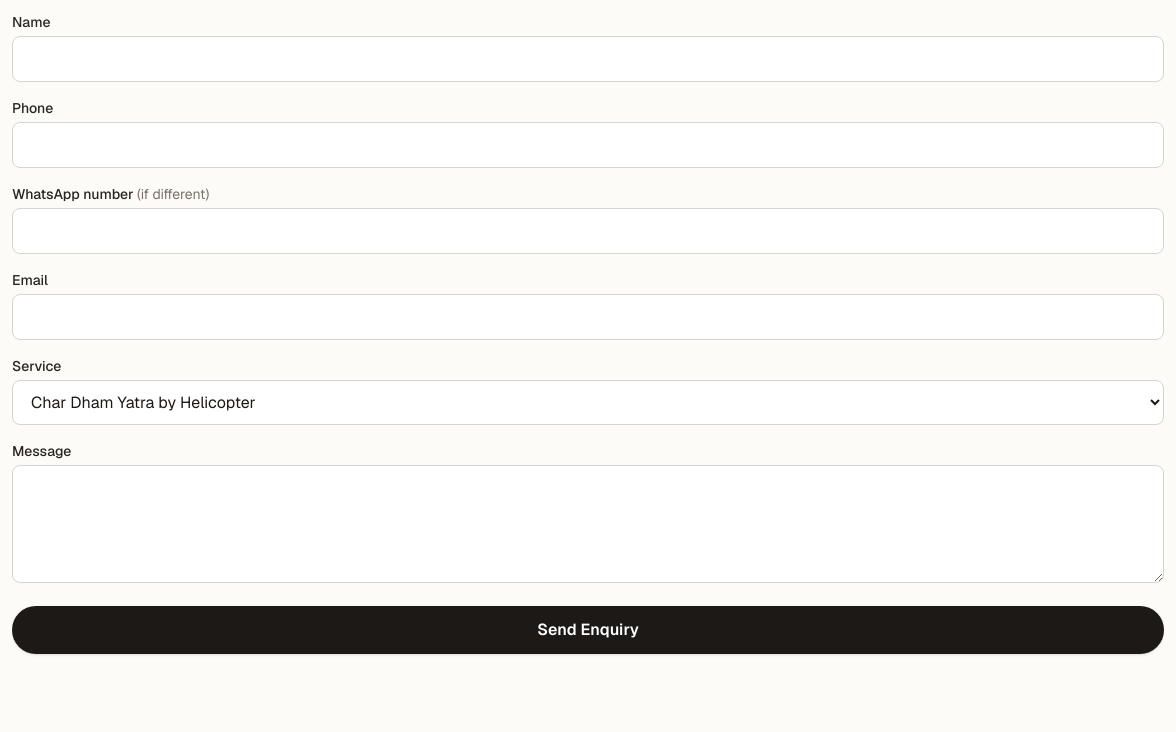
Scenario: GeneralEnquiryForm › shows the server error message on failure
This screenshot has width=1176, height=732.
Type "Meera Nair" into the field labelled "Name" at (588,59), box [12,36,1164,82]
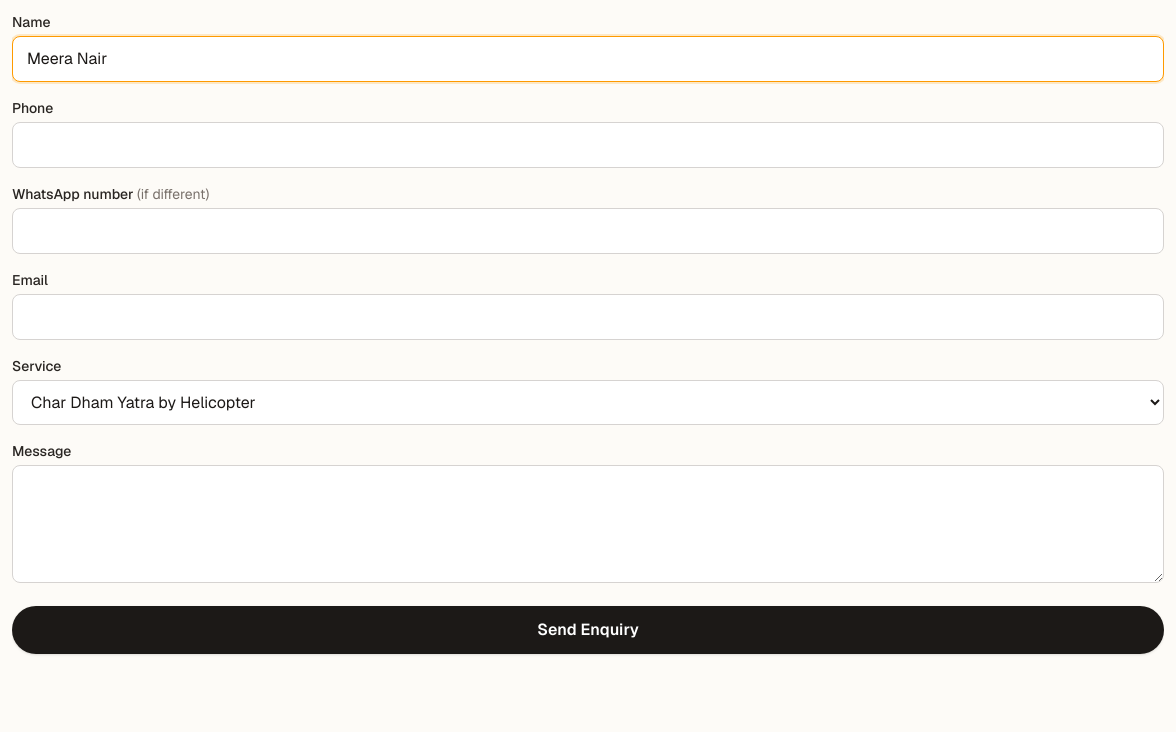
Type "+91 98765 43210" into the field labelled "Phone" at (588,145), box [12,122,1164,168]
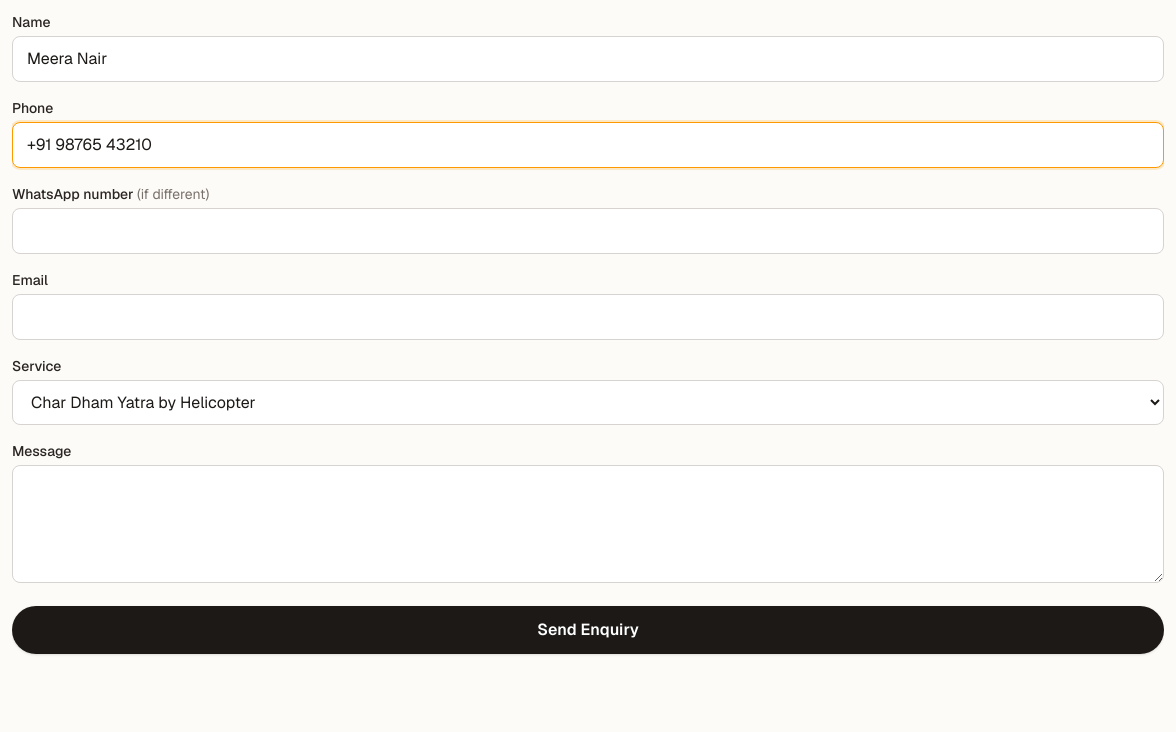
Type "meera@example.com" into the field labelled "Email" at (588,317), box [12,294,1164,340]
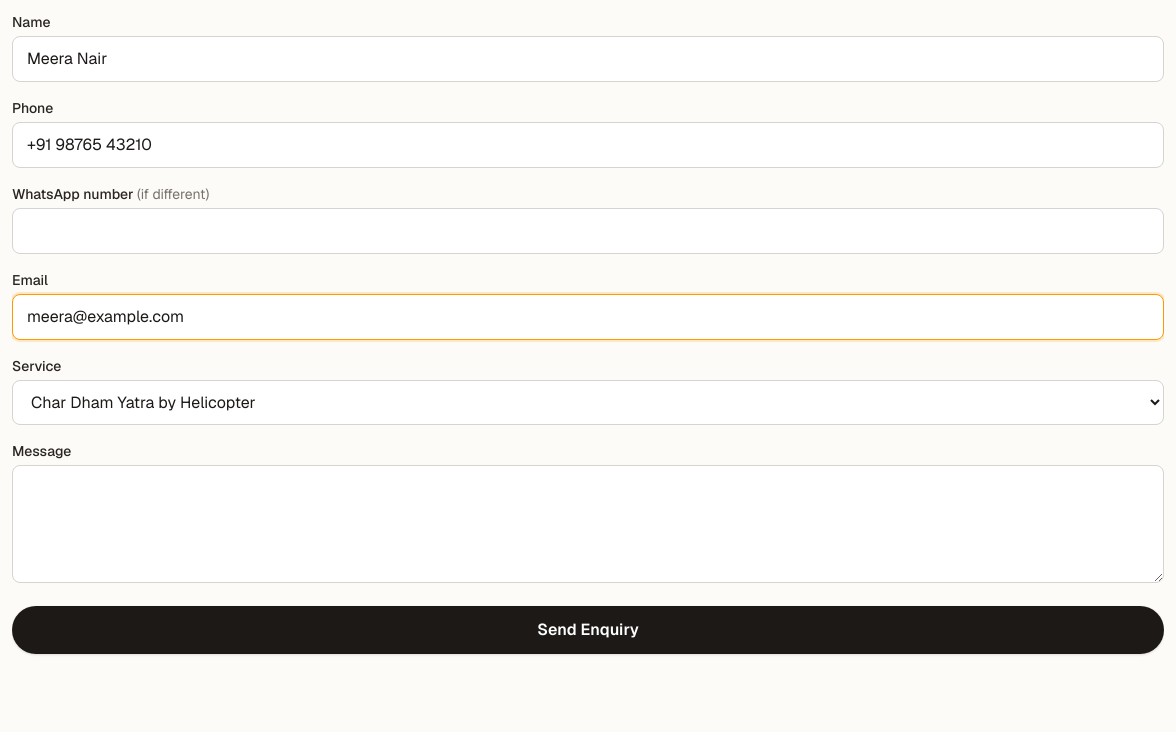
Type "I'd like to know more." into the text box labelled "Message" at (588,524), box [12,465,1164,583]
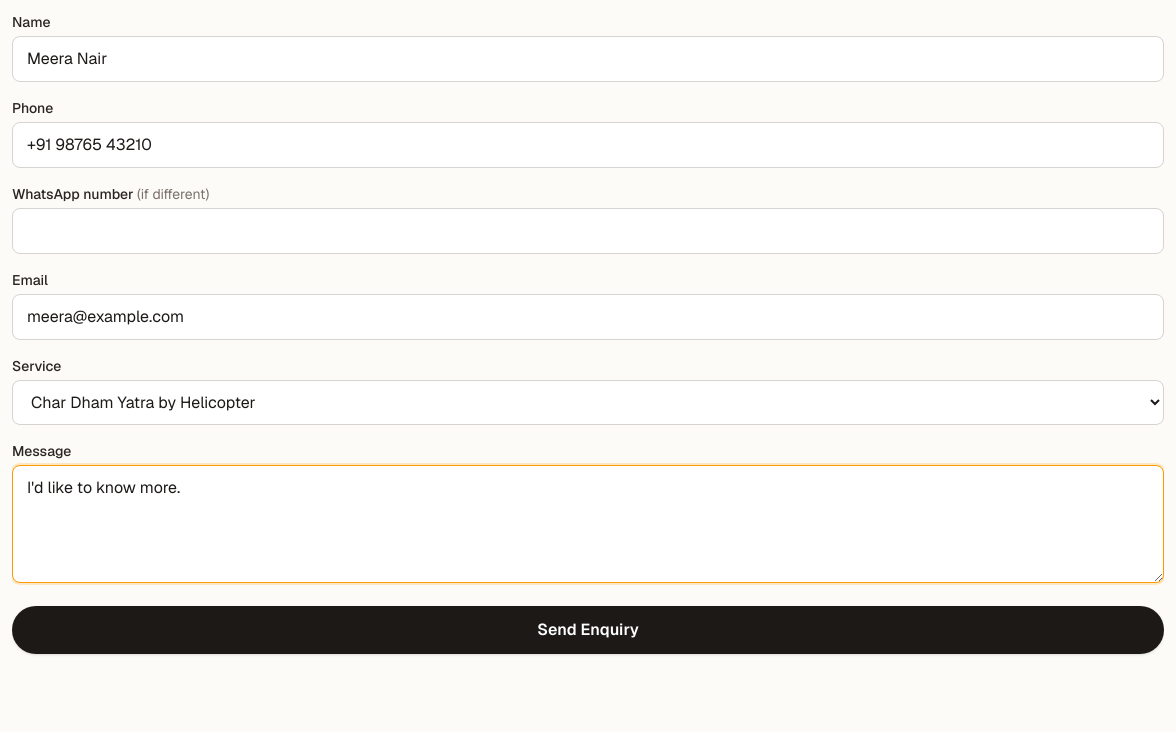
Click the button "Send Enquiry" at (588,630), box [12,606,1164,654]
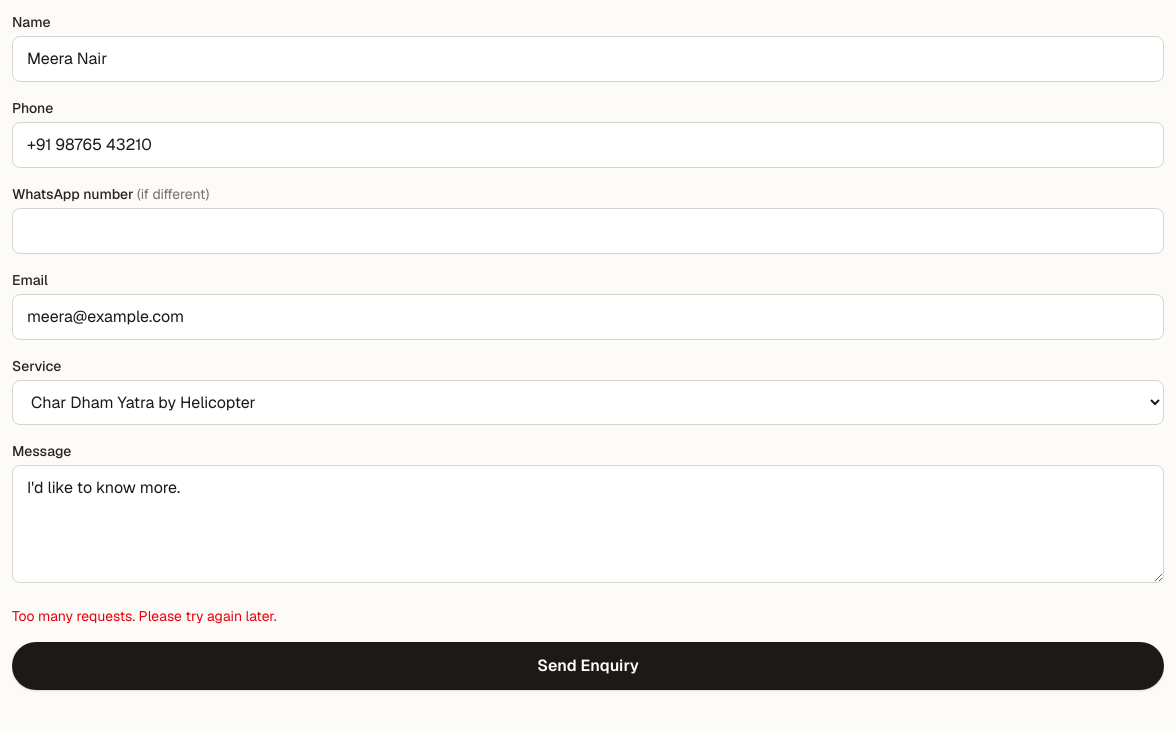
Result: the text "Too many requests. Please try again later." is shown at [12,607,277,625]
